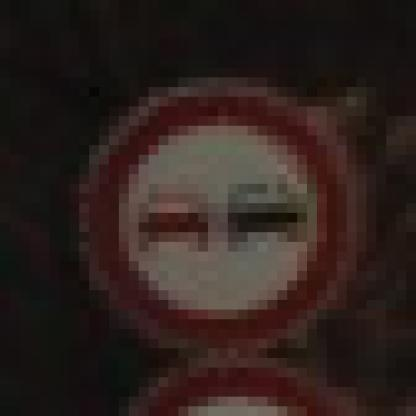No Overtaking: (61, 59, 368, 369)
